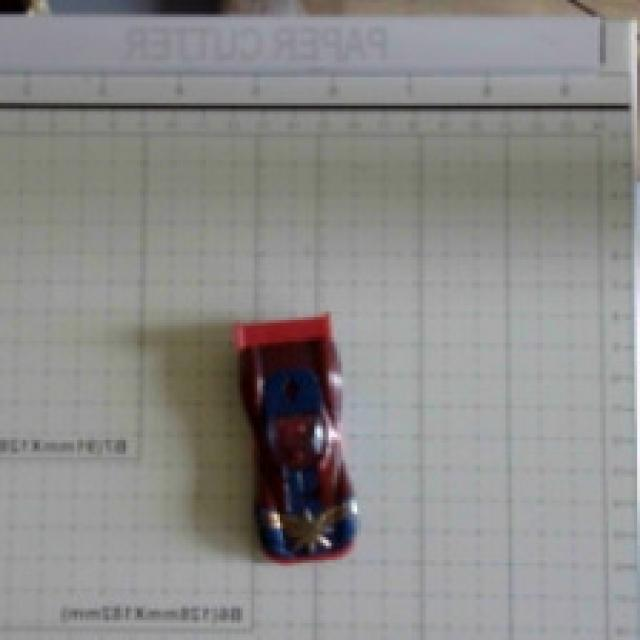Red Car: (196, 272, 404, 582)
